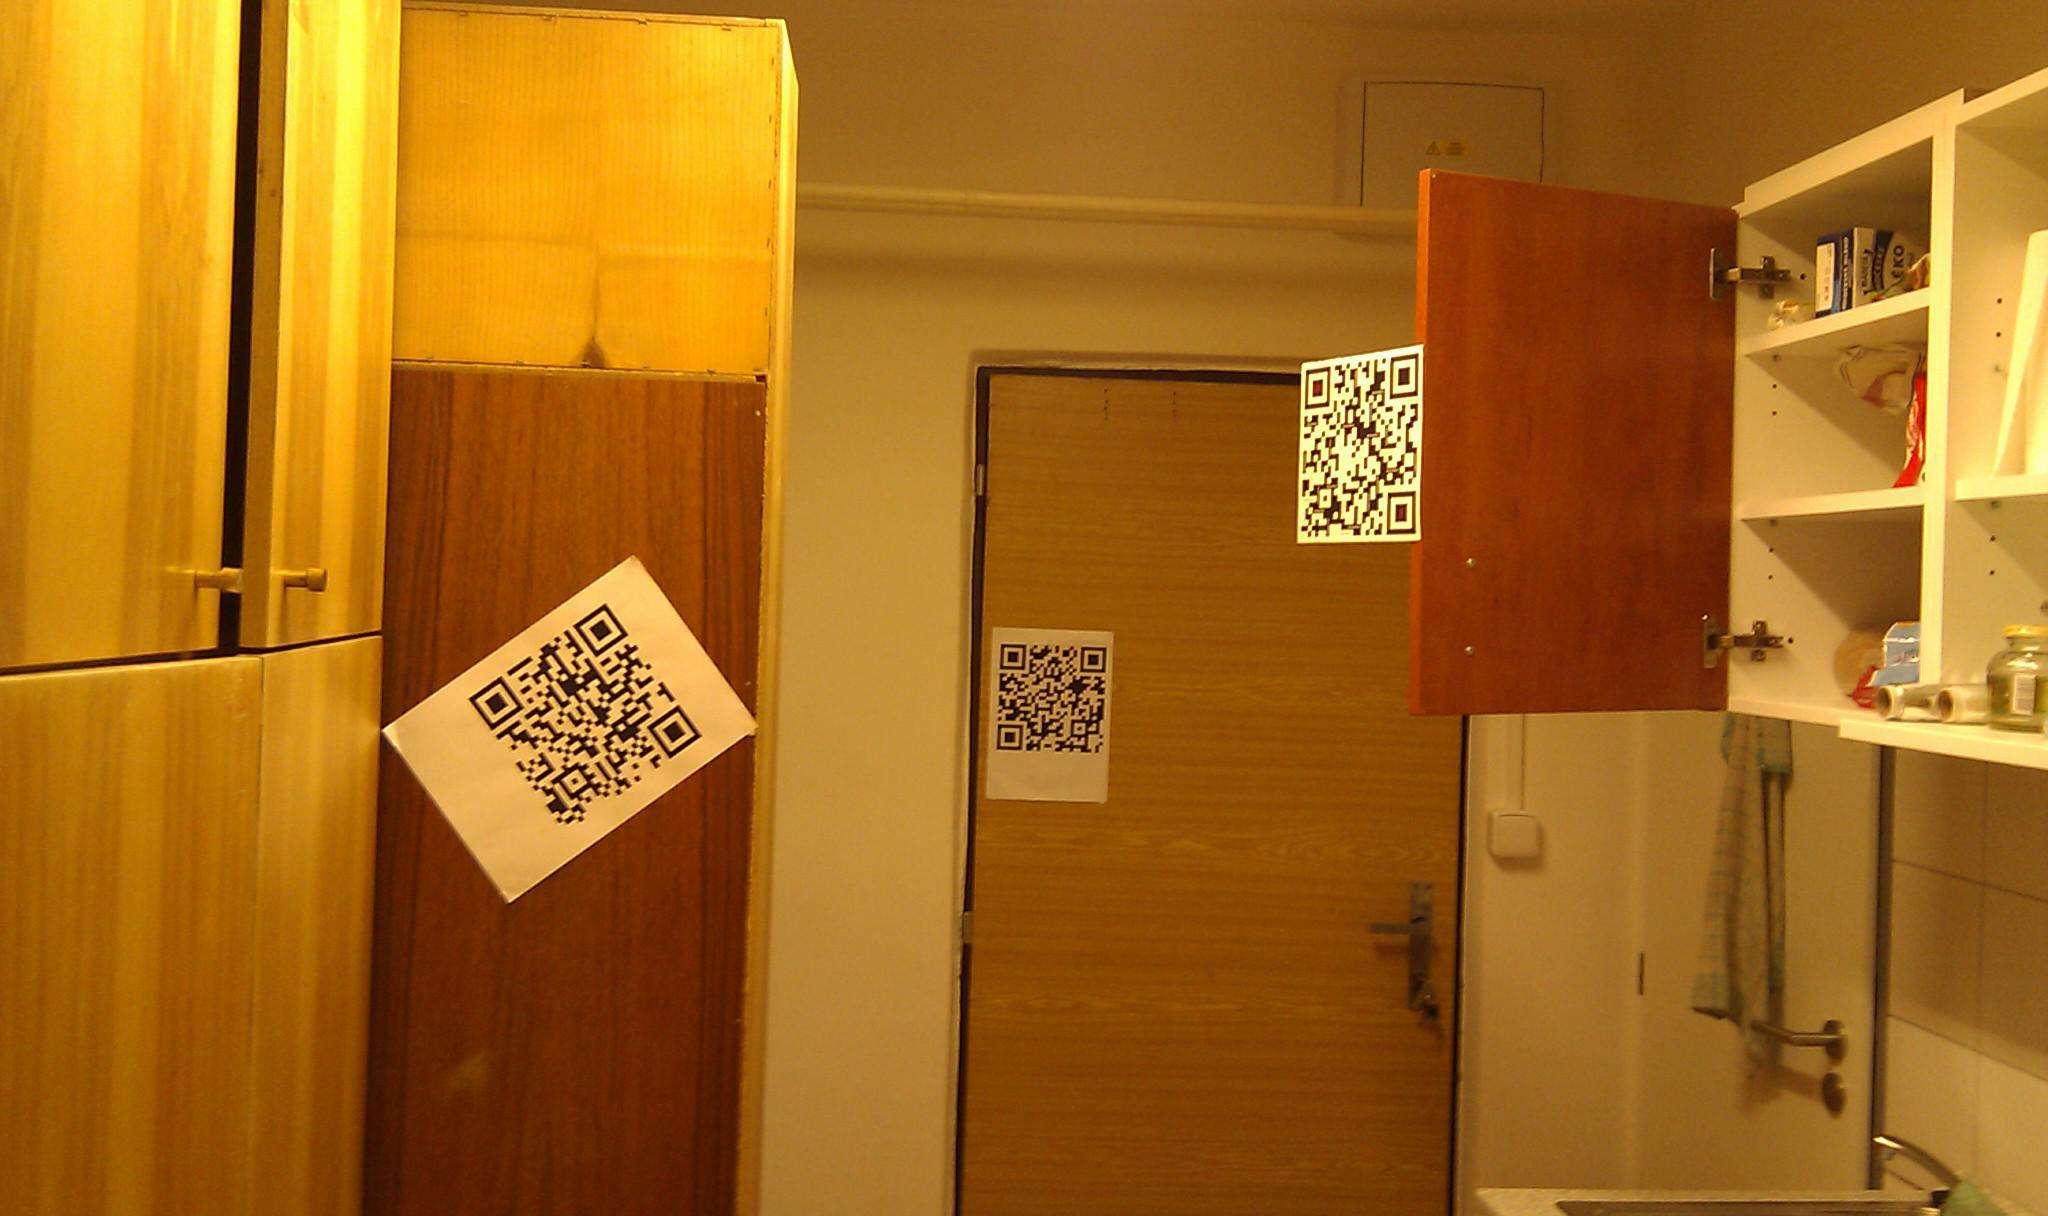Finder pattern: (646, 702, 703, 761), (467, 672, 524, 732), (573, 602, 630, 659), (1385, 486, 1418, 540), (1387, 352, 1421, 398), (1306, 368, 1334, 408), (997, 641, 1032, 675), (994, 722, 1026, 754), (1083, 646, 1110, 676)
